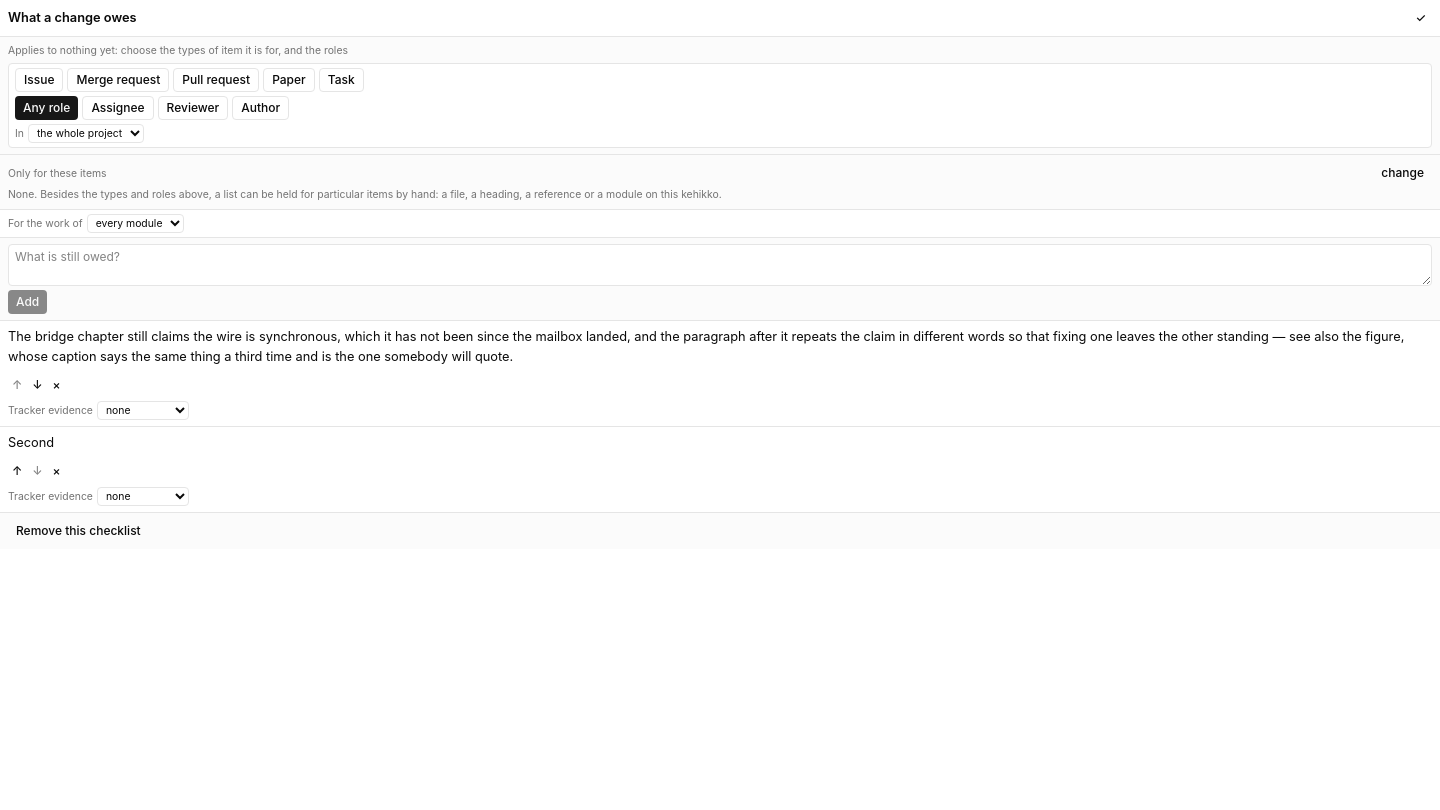
it: the edit page: what a list says, and what it is held against › in a small container the picker opens over the frame
Click the button "change". click: (1403, 173)
box: 1373,161 -> 1432,185
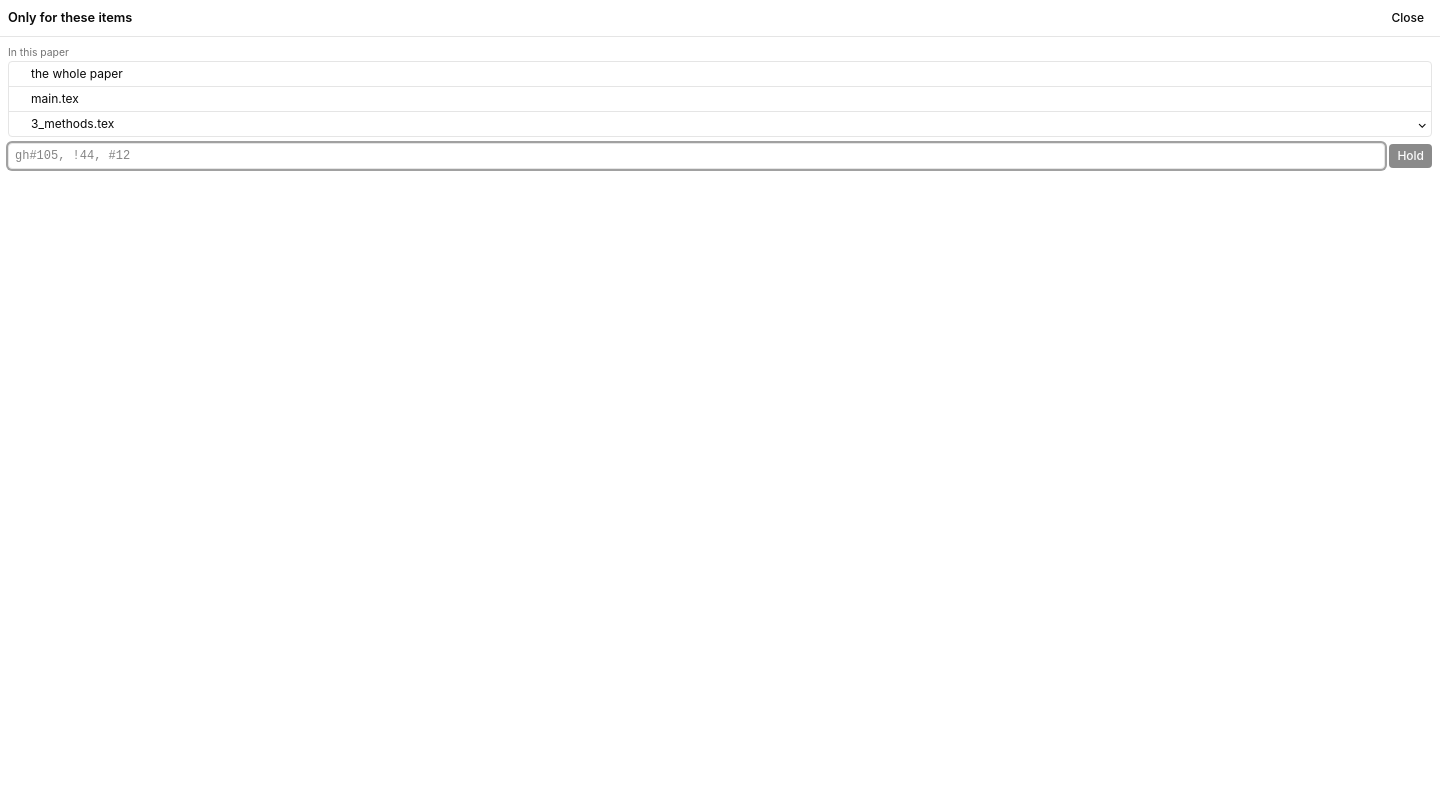
Now the dialog is shown
Now the button "3_methods.tex" is shown, box 9,112 -> 1410,136
